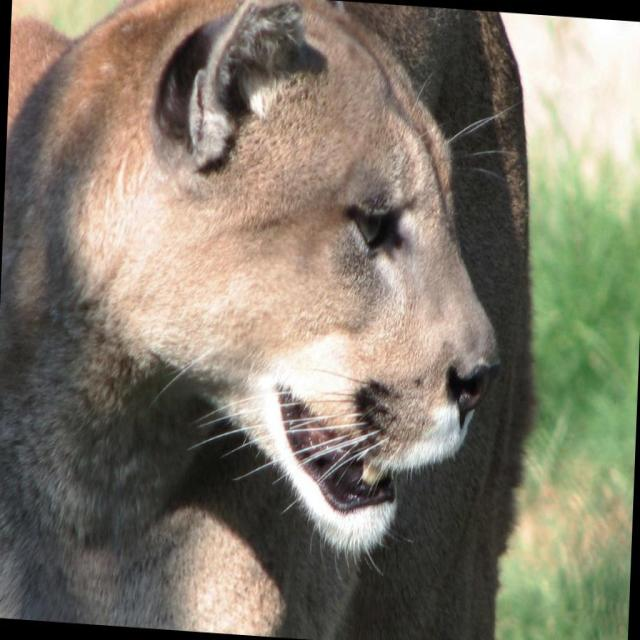Lion: (0, 0, 551, 639)
